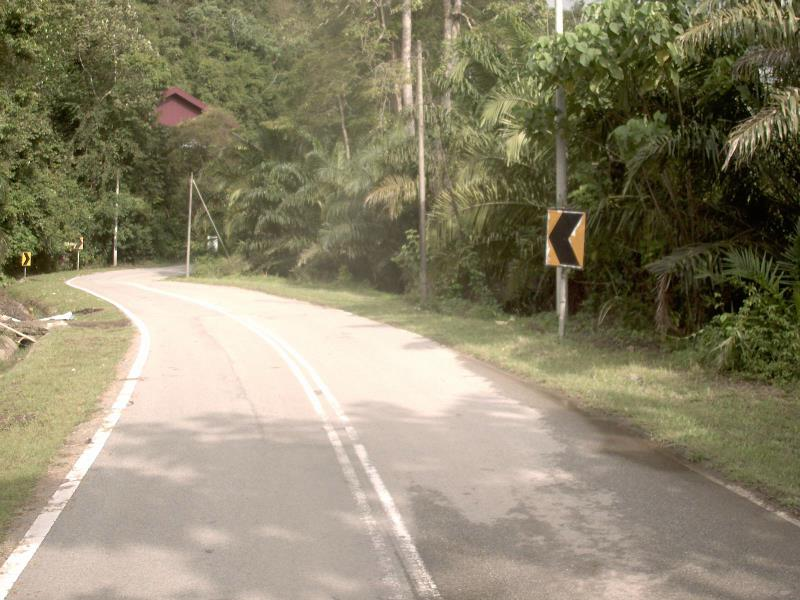traffic_sign: (536, 200, 596, 277)
